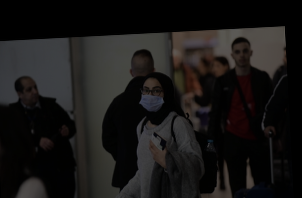with_mask: (136, 84, 164, 112)
without_mask: (21, 83, 39, 104), (233, 46, 251, 67)
